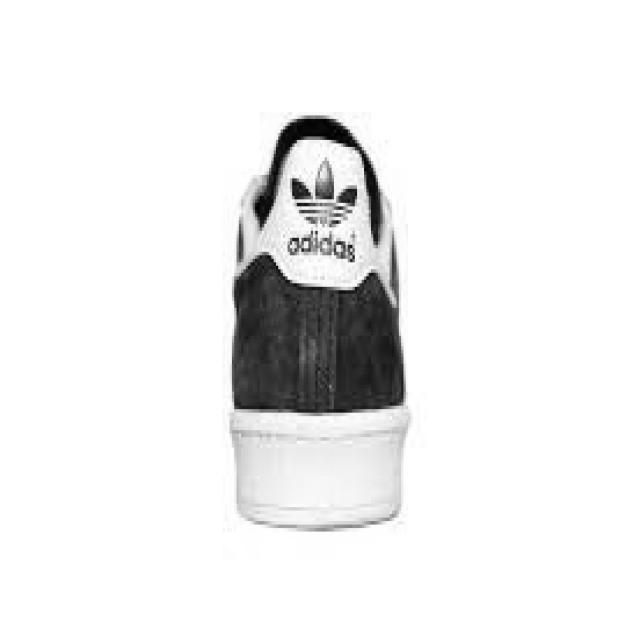Adidas: (281, 143, 367, 238)
